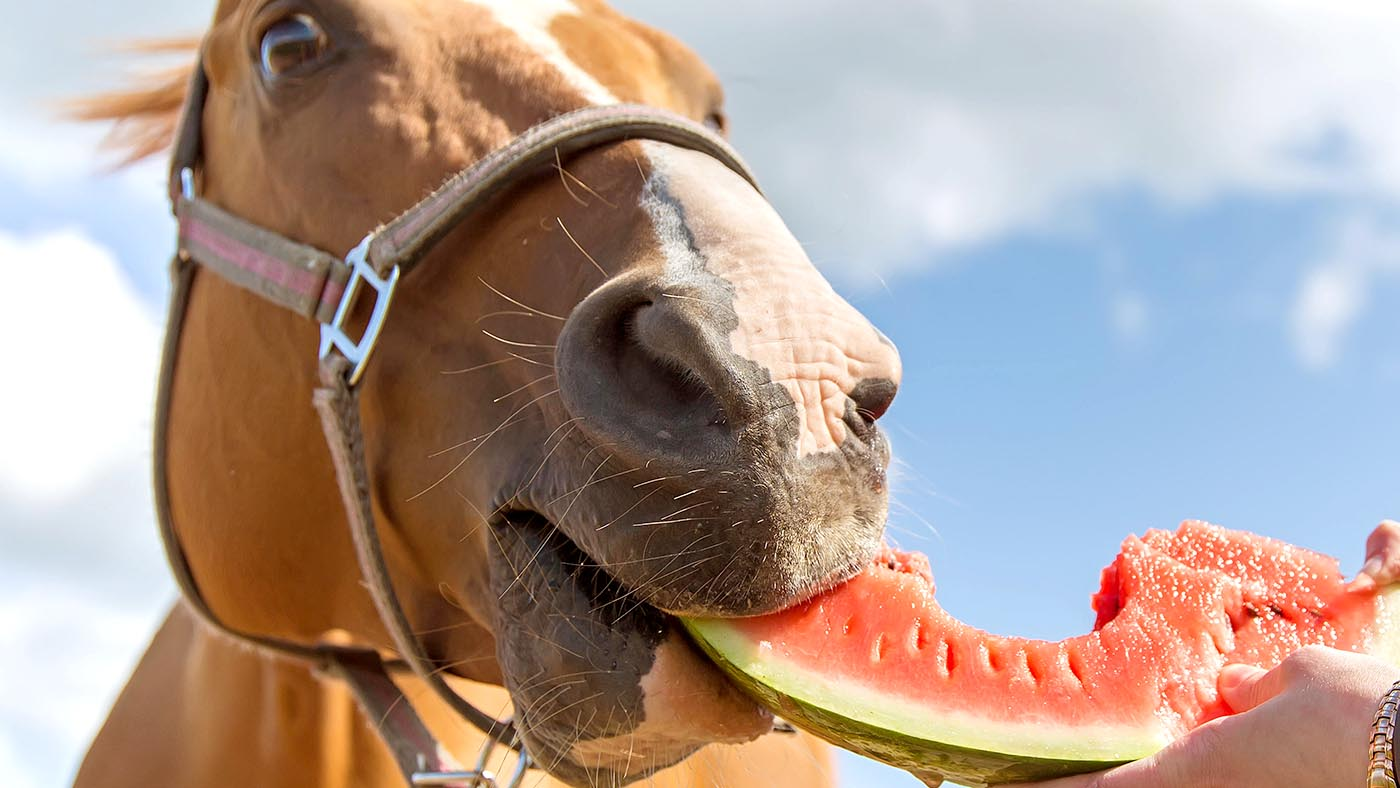Horse: (80, 17, 912, 788)
